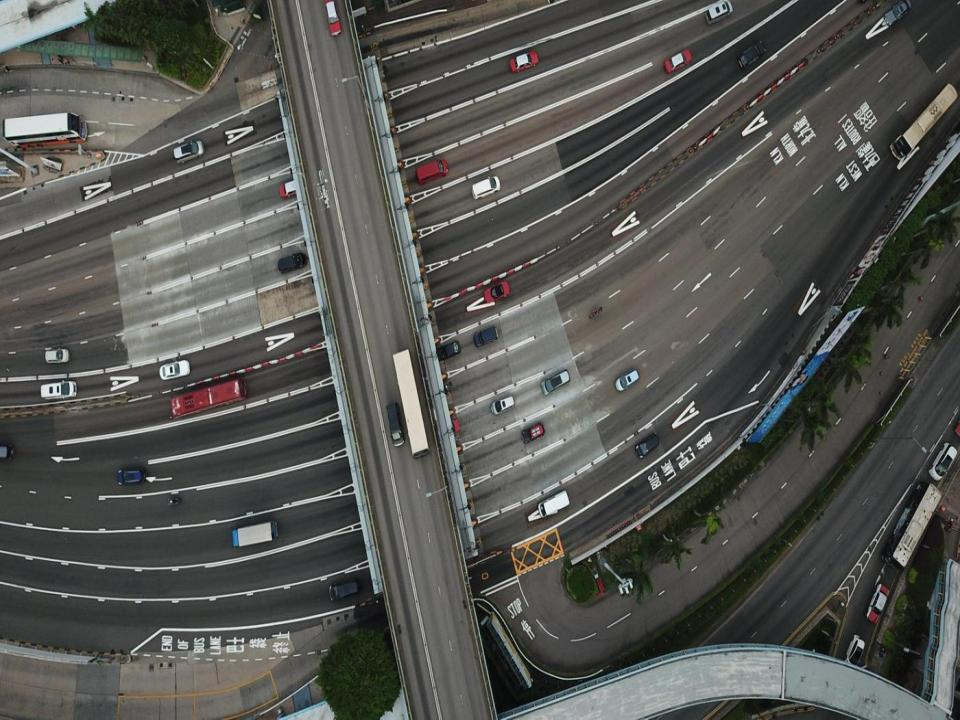bus: (890, 83, 958, 161), (882, 481, 942, 568), (394, 350, 430, 460), (2, 111, 88, 148), (170, 378, 247, 418)
car: (867, 583, 889, 623), (842, 633, 864, 672), (884, 0, 912, 26), (427, 341, 460, 362), (663, 49, 691, 73), (324, 0, 342, 37), (159, 359, 190, 380), (509, 50, 538, 72), (484, 280, 510, 304), (280, 176, 306, 198), (437, 418, 460, 437)
truck: (231, 520, 278, 546)
van: (928, 440, 958, 480), (538, 490, 570, 517), (416, 159, 448, 185), (386, 400, 404, 446), (541, 369, 570, 396), (739, 40, 765, 69), (40, 378, 77, 398), (174, 140, 204, 164), (328, 578, 360, 600), (705, 0, 732, 26), (634, 432, 659, 459), (472, 176, 500, 198), (278, 252, 306, 273), (615, 368, 640, 391), (473, 325, 497, 347), (521, 422, 545, 443), (117, 468, 145, 485), (491, 395, 514, 415), (46, 347, 70, 363), (0, 444, 14, 459)
